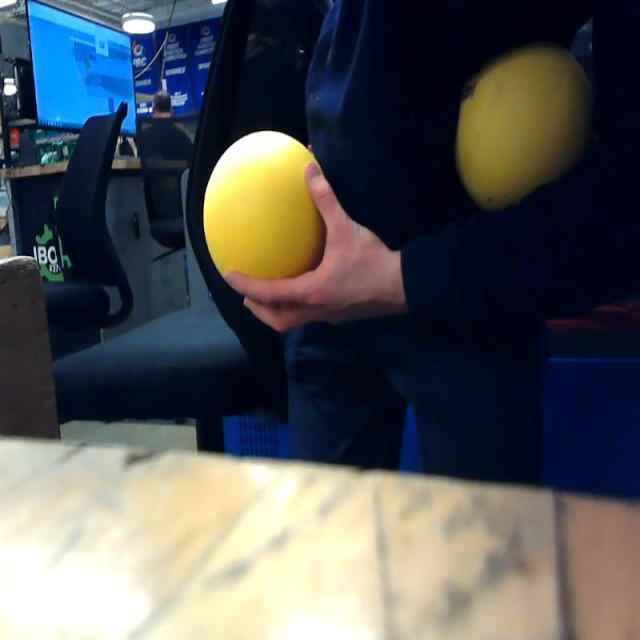Fuel: (458, 44, 590, 220), (204, 132, 325, 302)
